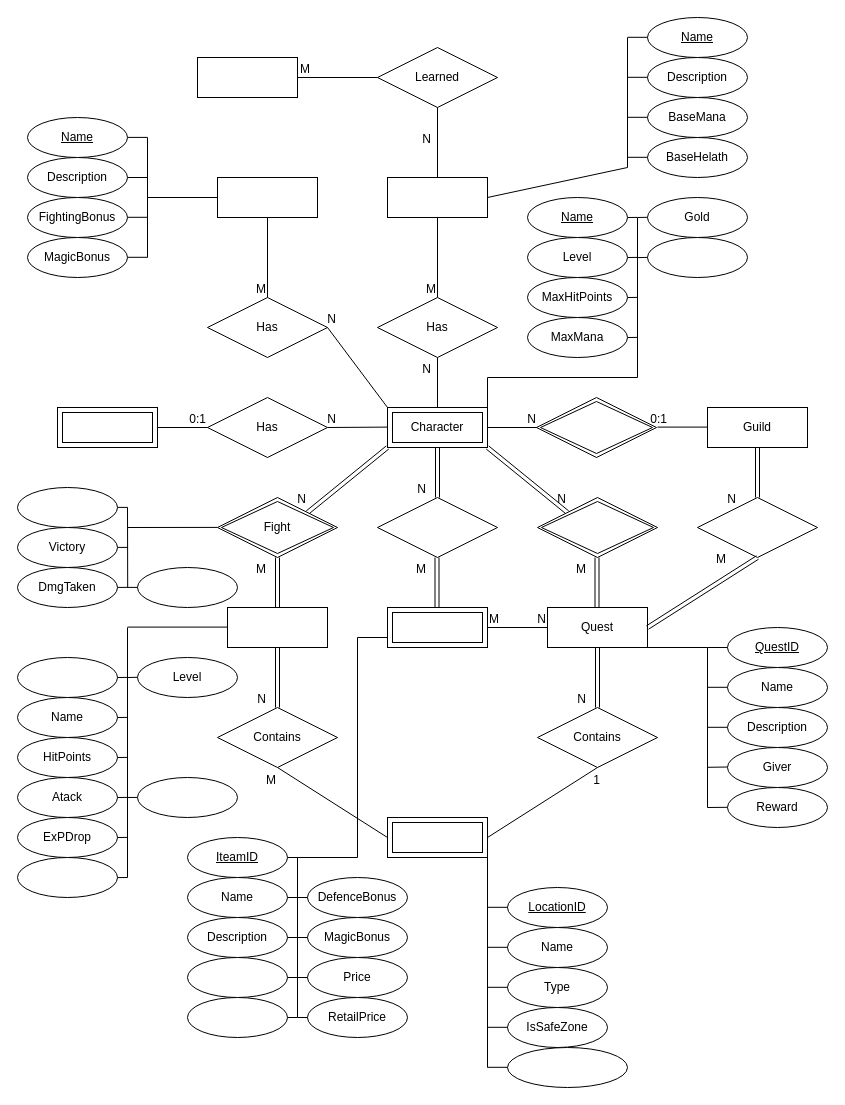
Some shapes in this 845 by 1105 pixel diagram are drawn without their labels. The shapes that lost their labels are listed below. From the top down, each one's centre as x and y in pixels, then its label:
At pixel 247 77: "Skill".
At pixel 267 197: "Race".
At pixel 437 197: "Class".
At pixel 697 257: "ExperiencePoints".
At pixel 107 427: "Player".
At pixel 596 427: "Belongs".
At pixel 67 507: "CombatLogId".
At pixel 437 527: "Equiped".
At pixel 597 527: "Does".
At pixel 757 527: "Gives".
At pixel 187 587: "DmgDelt".
At pixel 277 627: "Monster".
At pixel 437 627: "Item".
At pixel 67 677: "MonsterID".
At pixel 187 797: "Defence".
At pixel 437 837: "Location".
At pixel 67 877: "GoldDrop".
At pixel 237 977: "Rarity".
At pixel 237 1017: "AtackBonus".
At pixel 567 1067: "RecomendedLevel".
